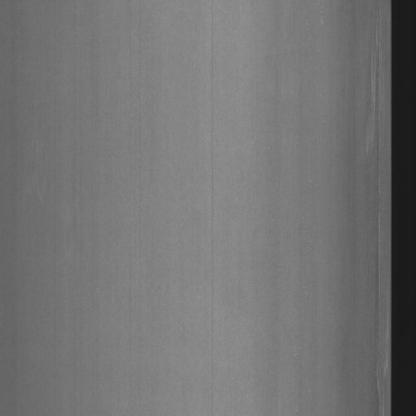silk_spot: (357, 20, 387, 168)
